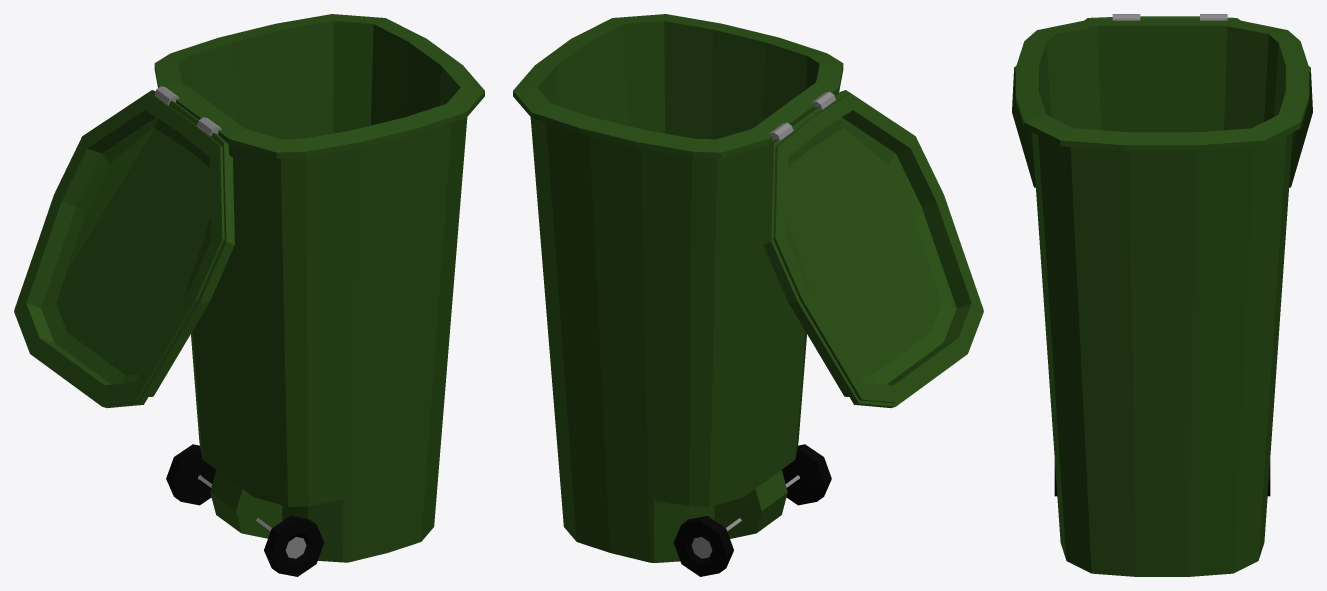
File: TrashCan_Open.fbx
The picture shows the model from 3 angles, left to right: view 1: azimuth 30°, elevation 25°; view 2: azimuth 150°, elevation 25°; view 3: azimuth 270°, elevation 25°; orthographic projection. The views are drawn at different scales.
Parts seen in each view (by area): view 1: LowPoly.001; view 2: LowPoly.001; view 3: LowPoly.001.
Part boxes in pixels (bbox=[...]): LowPoly.001: bbox=[14, 14, 484, 576]; LowPoly.001: bbox=[513, 14, 983, 576]; LowPoly.001: bbox=[1012, 14, 1312, 576].
Bounding box in the file's own units: 5.17 × 3.45 × 5.76.
